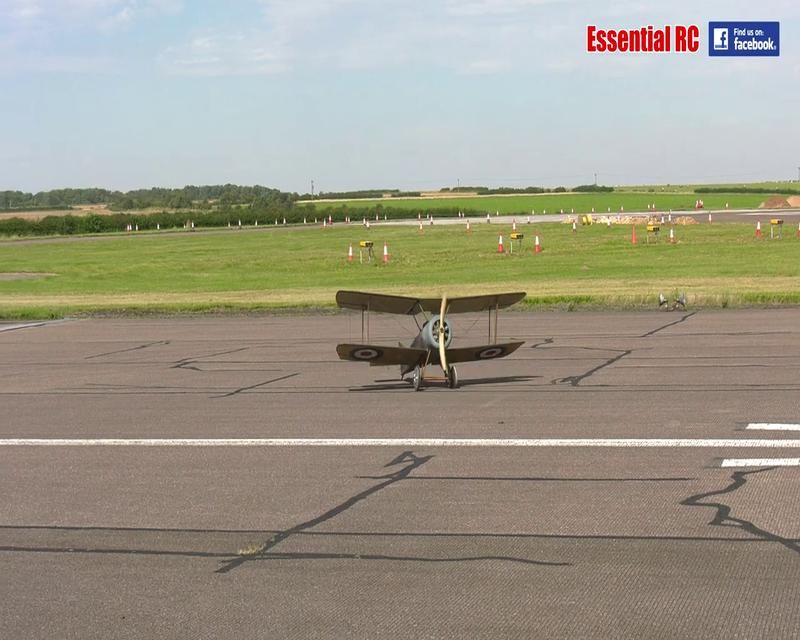UAV: (334, 290, 529, 392)
